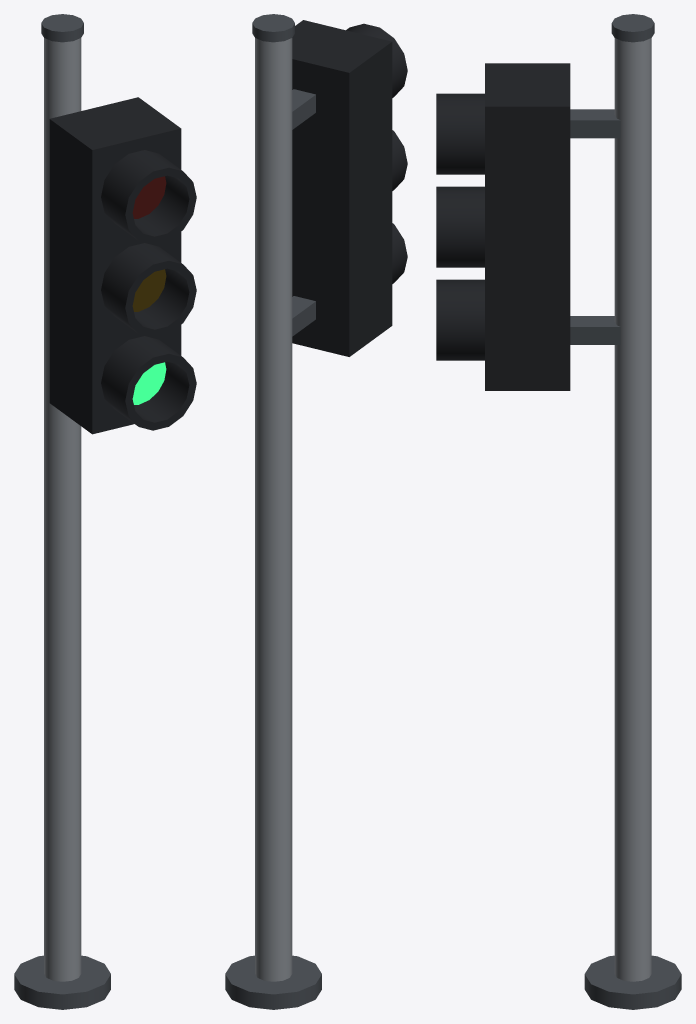
File: semaforo-verde.glb
3 views of the same model, side by side, from view 1: azimuth 30°, elevation 25°; view 2: azimuth 150°, elevation 25°; view 3: azimuth 270°, elevation 25° (orthographic).
Visible parts, largest first — view 1: Poste, Caixa, Viseiras, Luz_Verde, Luz_Vermelho, Luz_Amarelo; view 2: Poste, Caixa, Viseiras, Suportes; view 3: Poste, Caixa, Viseiras, Suportes.
Boxes of the visible parts, x1,y1,x2,y2 form: Poste: (14,14,110,1009); Caixa: (49,97,181,434); Viseiras: (101,150,196,430); Luz_Verde: (132,362,166,404); Luz_Vermelho: (132,176,166,218); Luz_Amarelo: (132,269,166,311); Poste: (225,14,321,1009); Caixa: (292,20,392,356); Viseiras: (346,23,407,283); Suportes: (292,89,315,336); Poste: (584,14,681,1009); Caixa: (485,63,570,390); Viseiras: (436,93,484,360); Suportes: (570,109,620,344).
Bounding box in the file's own units: 0.36 × 3.74 × 0.86.
